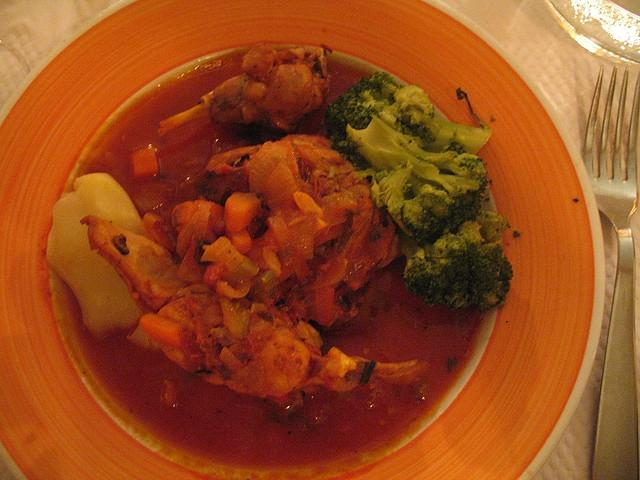broccoli: (401, 221, 512, 310), (324, 72, 404, 170), (401, 176, 462, 238), (384, 84, 436, 132)
potato: (47, 173, 141, 342)
